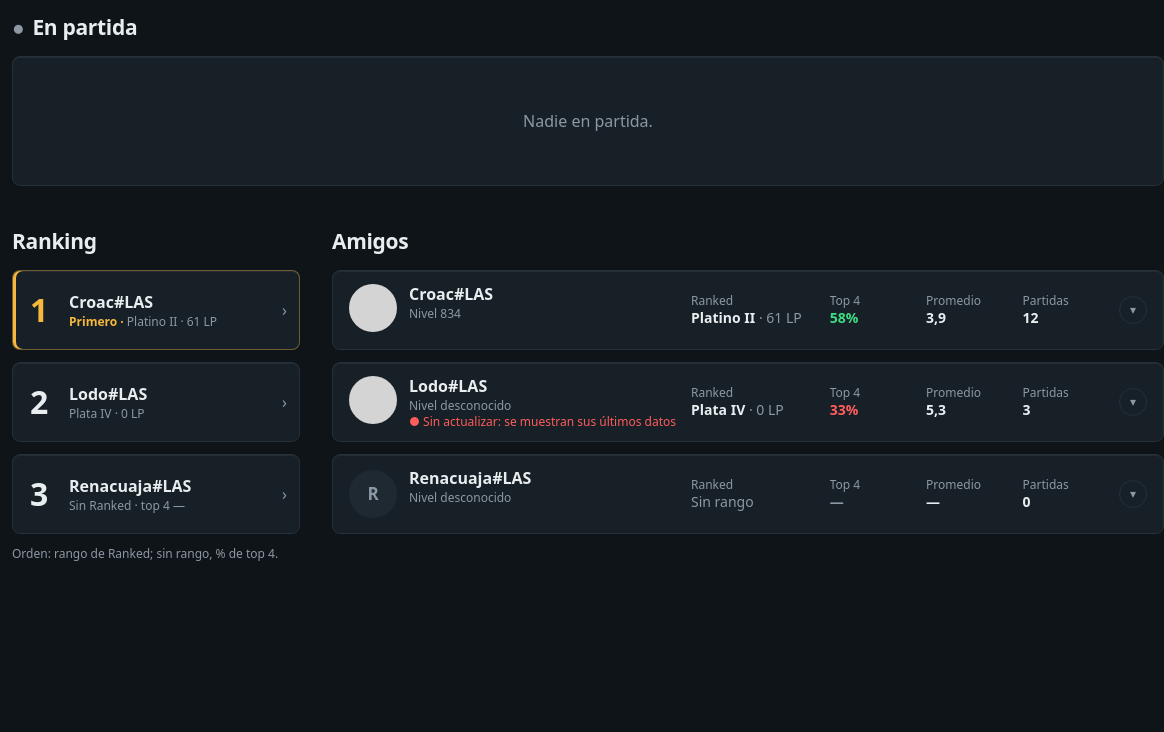
Test: filtros por modo en TFT › muestra Todos / Rankeds / Normales / Otros, sin ARAM
Click the button "Croac#LAS" at (451, 294), box top-left (409, 282), bottom-right (493, 306)
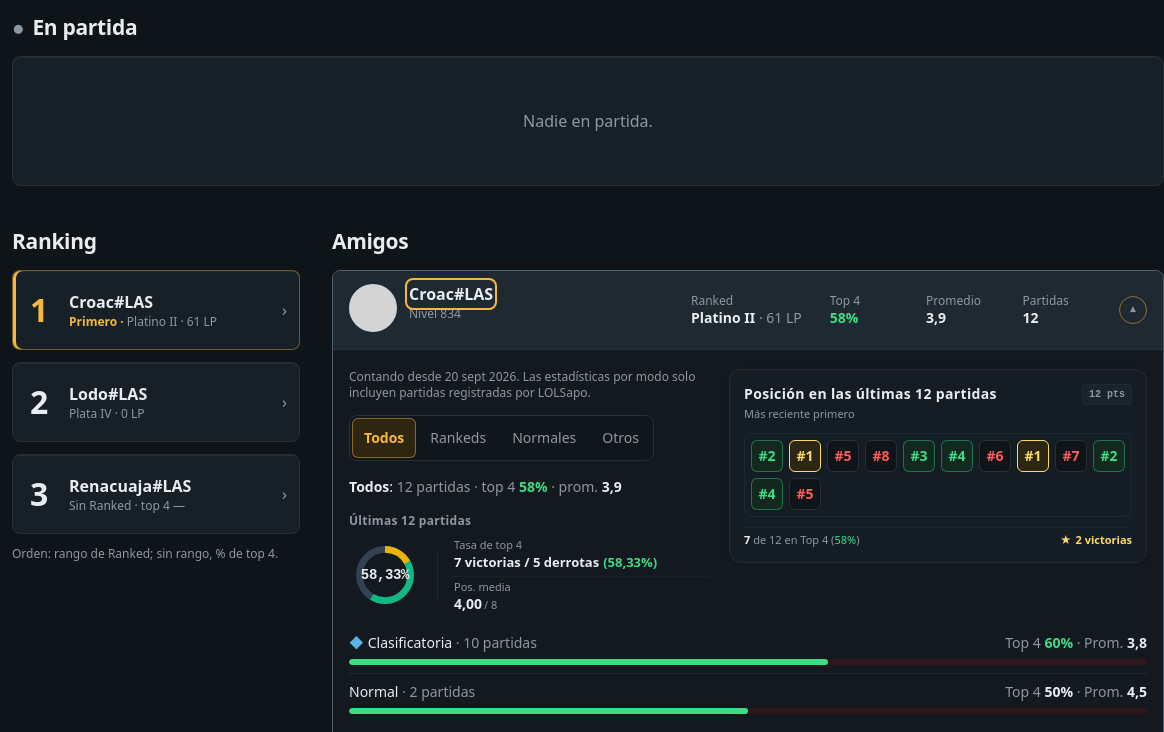
Now the buttons read "Todos", "Rankeds", "Normales", "Otros", in this order, box top-left (352, 418), bottom-right (416, 458); top-left (418, 418), bottom-right (498, 458); top-left (500, 418), bottom-right (588, 458); top-left (590, 418), bottom-right (651, 458)
